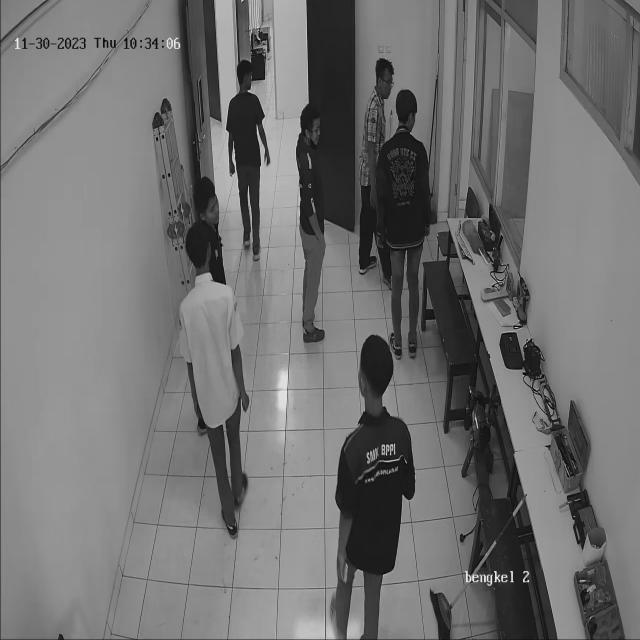person: (184, 215, 249, 531), (335, 316, 398, 640), (388, 85, 433, 366), (289, 84, 328, 363), (225, 51, 267, 260), (359, 55, 392, 277)
